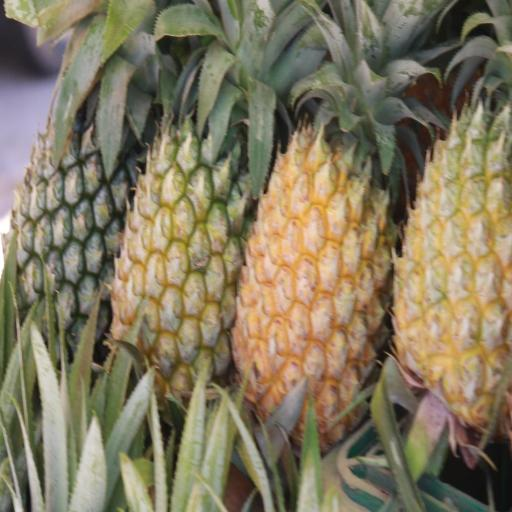------------------------------: (92, 32, 250, 414)
Pineapple - v8 v1: (226, 15, 391, 454), (386, 8, 512, 433)
